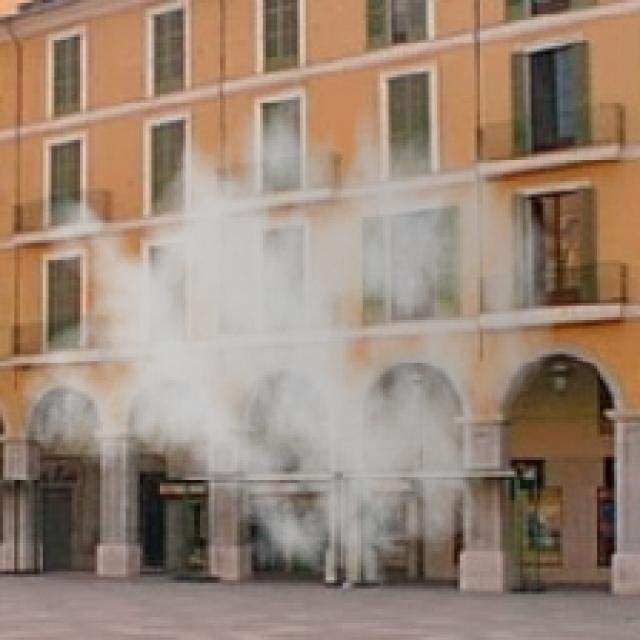Smoke: (17, 48, 557, 603)
